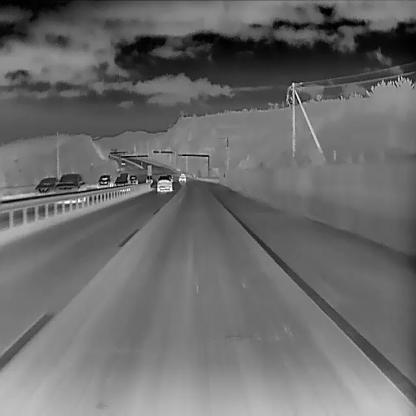car: (54, 173, 87, 203), (34, 176, 59, 198), (95, 173, 114, 189), (156, 175, 173, 191), (113, 175, 129, 191), (129, 174, 138, 184), (177, 172, 186, 182), (145, 174, 153, 183), (120, 160, 124, 164)
